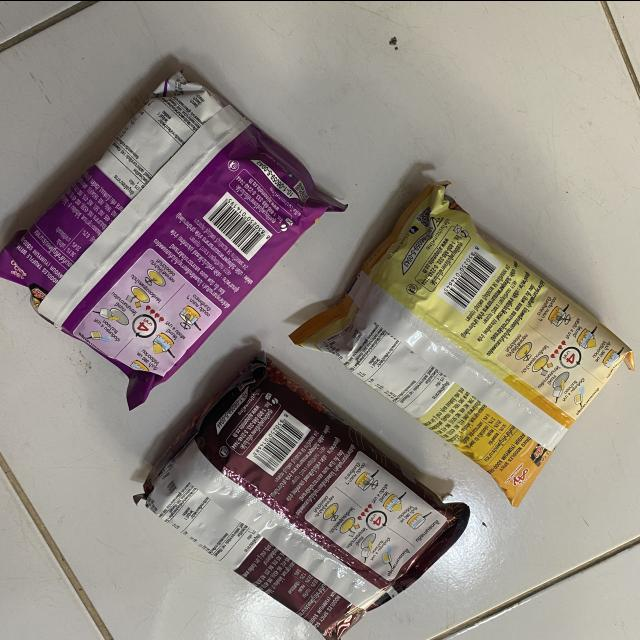plastik: (0, 72, 346, 408), (290, 181, 634, 505), (134, 352, 469, 640)
